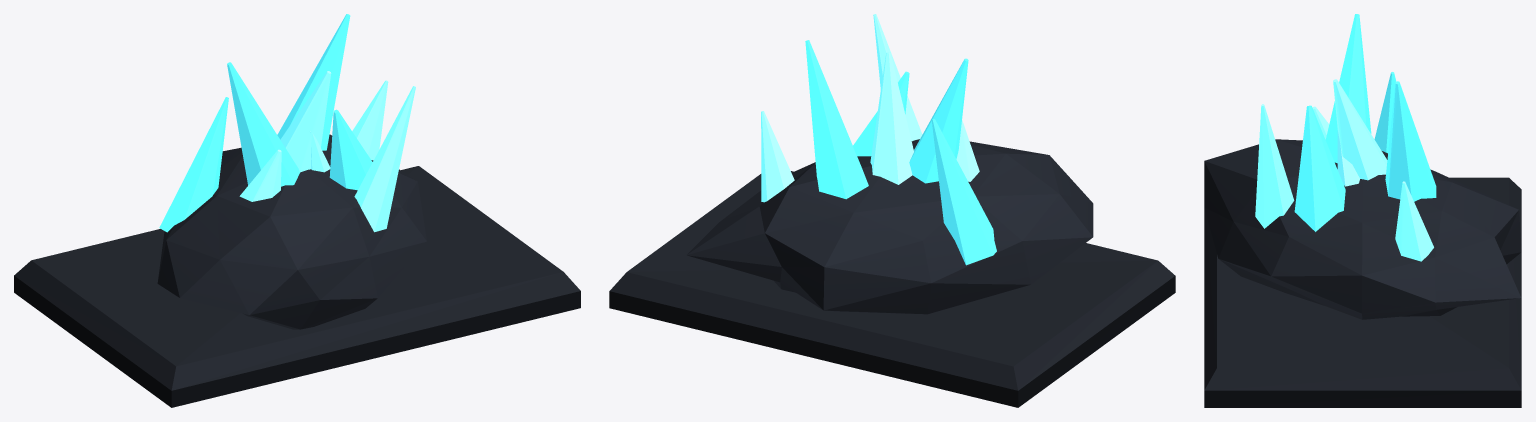
Rendered from crystal-shard-heap.glb.
3 views of the same model, side by side, from view 1: azimuth 30°, elevation 25°; view 2: azimuth 150°, elevation 25°; view 3: azimuth 270°, elevation 25° (orthographic).
Bounding box in the file's own units: 3 × 1.8 × 2.
